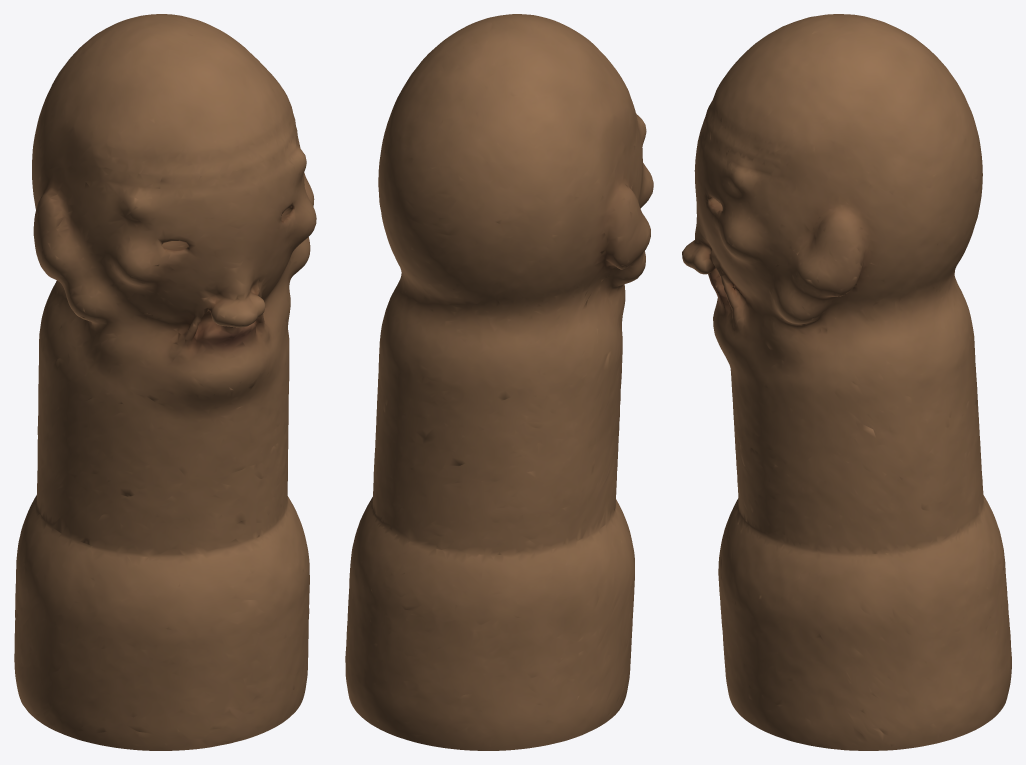
Rendered from idris_skin.glb.
The picture shows the model from 3 angles, left to right: view 1: azimuth 30°, elevation 25°; view 2: azimuth 150°, elevation 25°; view 3: azimuth 270°, elevation 25°; orthographic projection. The views are drawn at different scales.
Parts seen in each view (by area): view 1: geometry_0; view 2: geometry_0; view 3: geometry_0.
Part boxes in pixels (x1,y1,x2,y2): geometry_0: [14, 14, 316, 750]; geometry_0: [345, 14, 653, 750]; geometry_0: [682, 14, 1011, 750].
Bounding box in the file's own units: 0.1831 × 0.444 × 0.2002.
